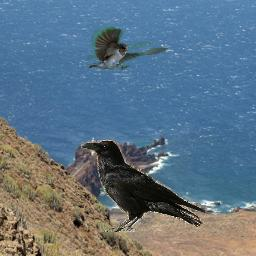Crow: (81, 140, 205, 232)
Swallow: (87, 27, 168, 70)
